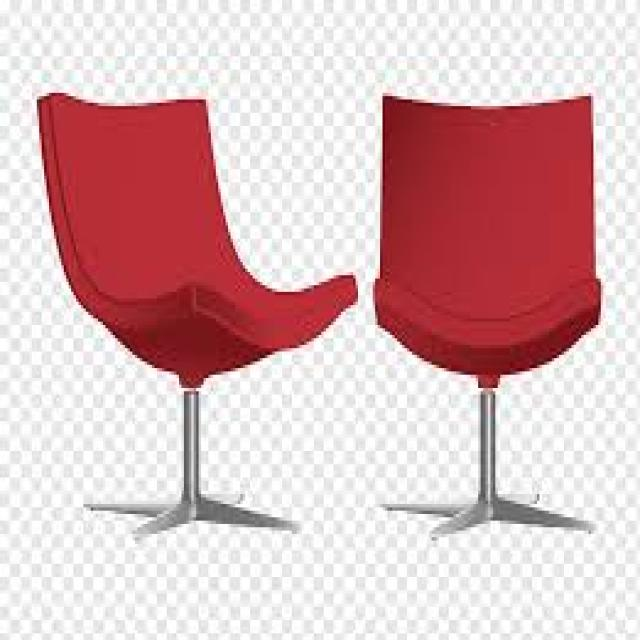chair: (39, 96, 359, 542), (372, 94, 597, 539)
